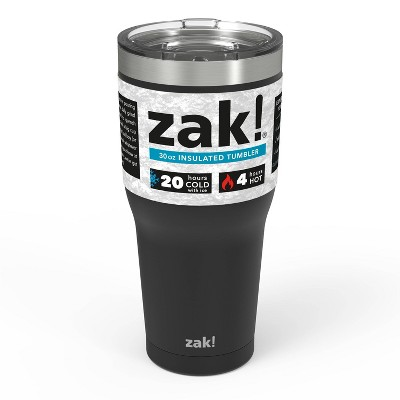metal: (117, 16, 284, 378)
